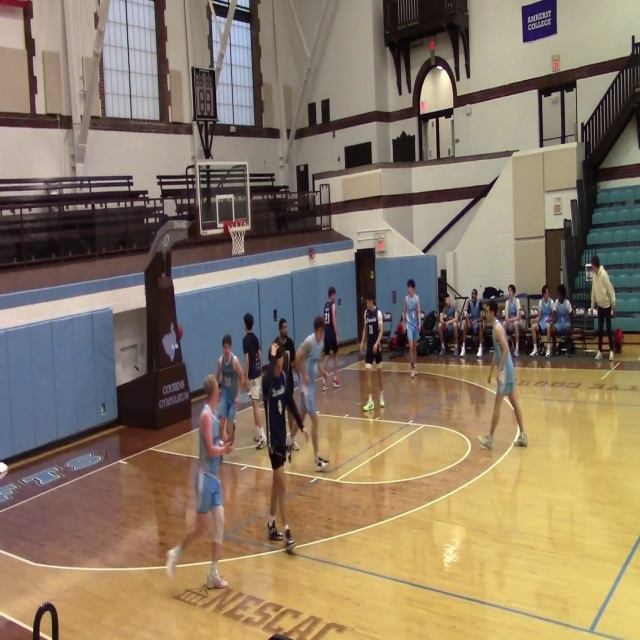Basketball: (0, 462, 8, 474)
